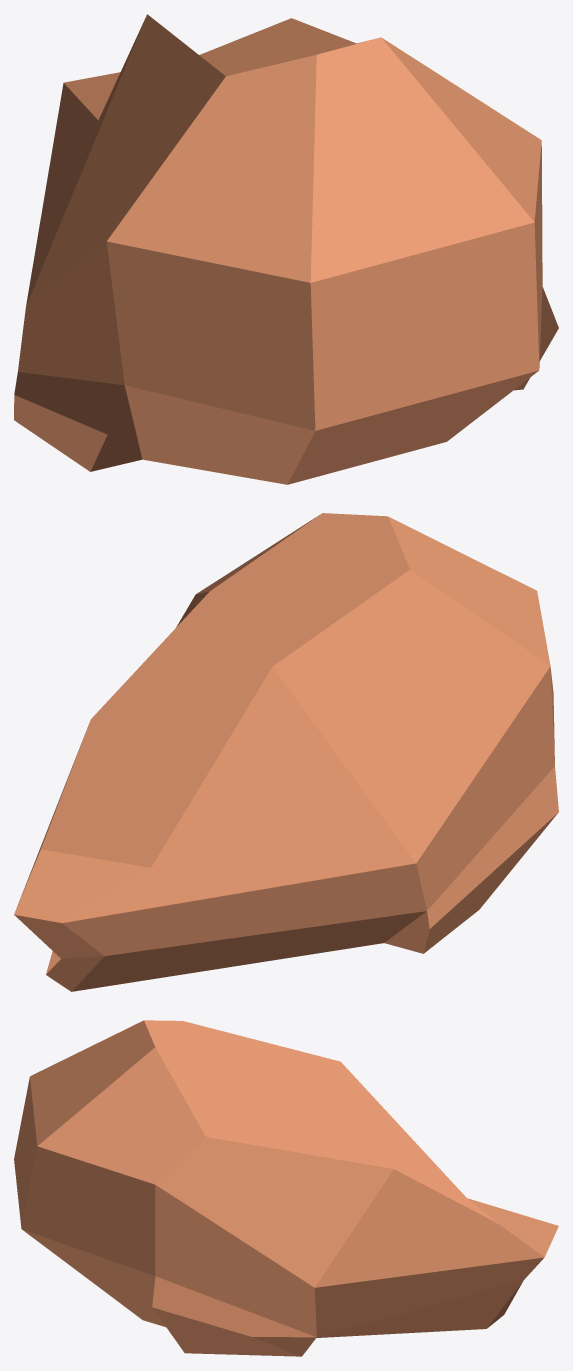
File: Stone008.fbx
The picture shows the model from 3 angles, top to bottom: view 1: azimuth 30°, elevation 25°; view 2: azimuth 150°, elevation 25°; view 3: azimuth 270°, elevation 25°; orthographic projection. The views are drawn at different scales.
Visible parts, largest first — view 1: Stone008; view 2: Stone008; view 3: Stone008.
Part boxes in pixels (x1,y1,x2,y2): Stone008: (14,14,558,484); Stone008: (14,513,558,991); Stone008: (14,1020,558,1356).
Bounding box in the file's own units: 1.25 × 1.08 × 2.04.
